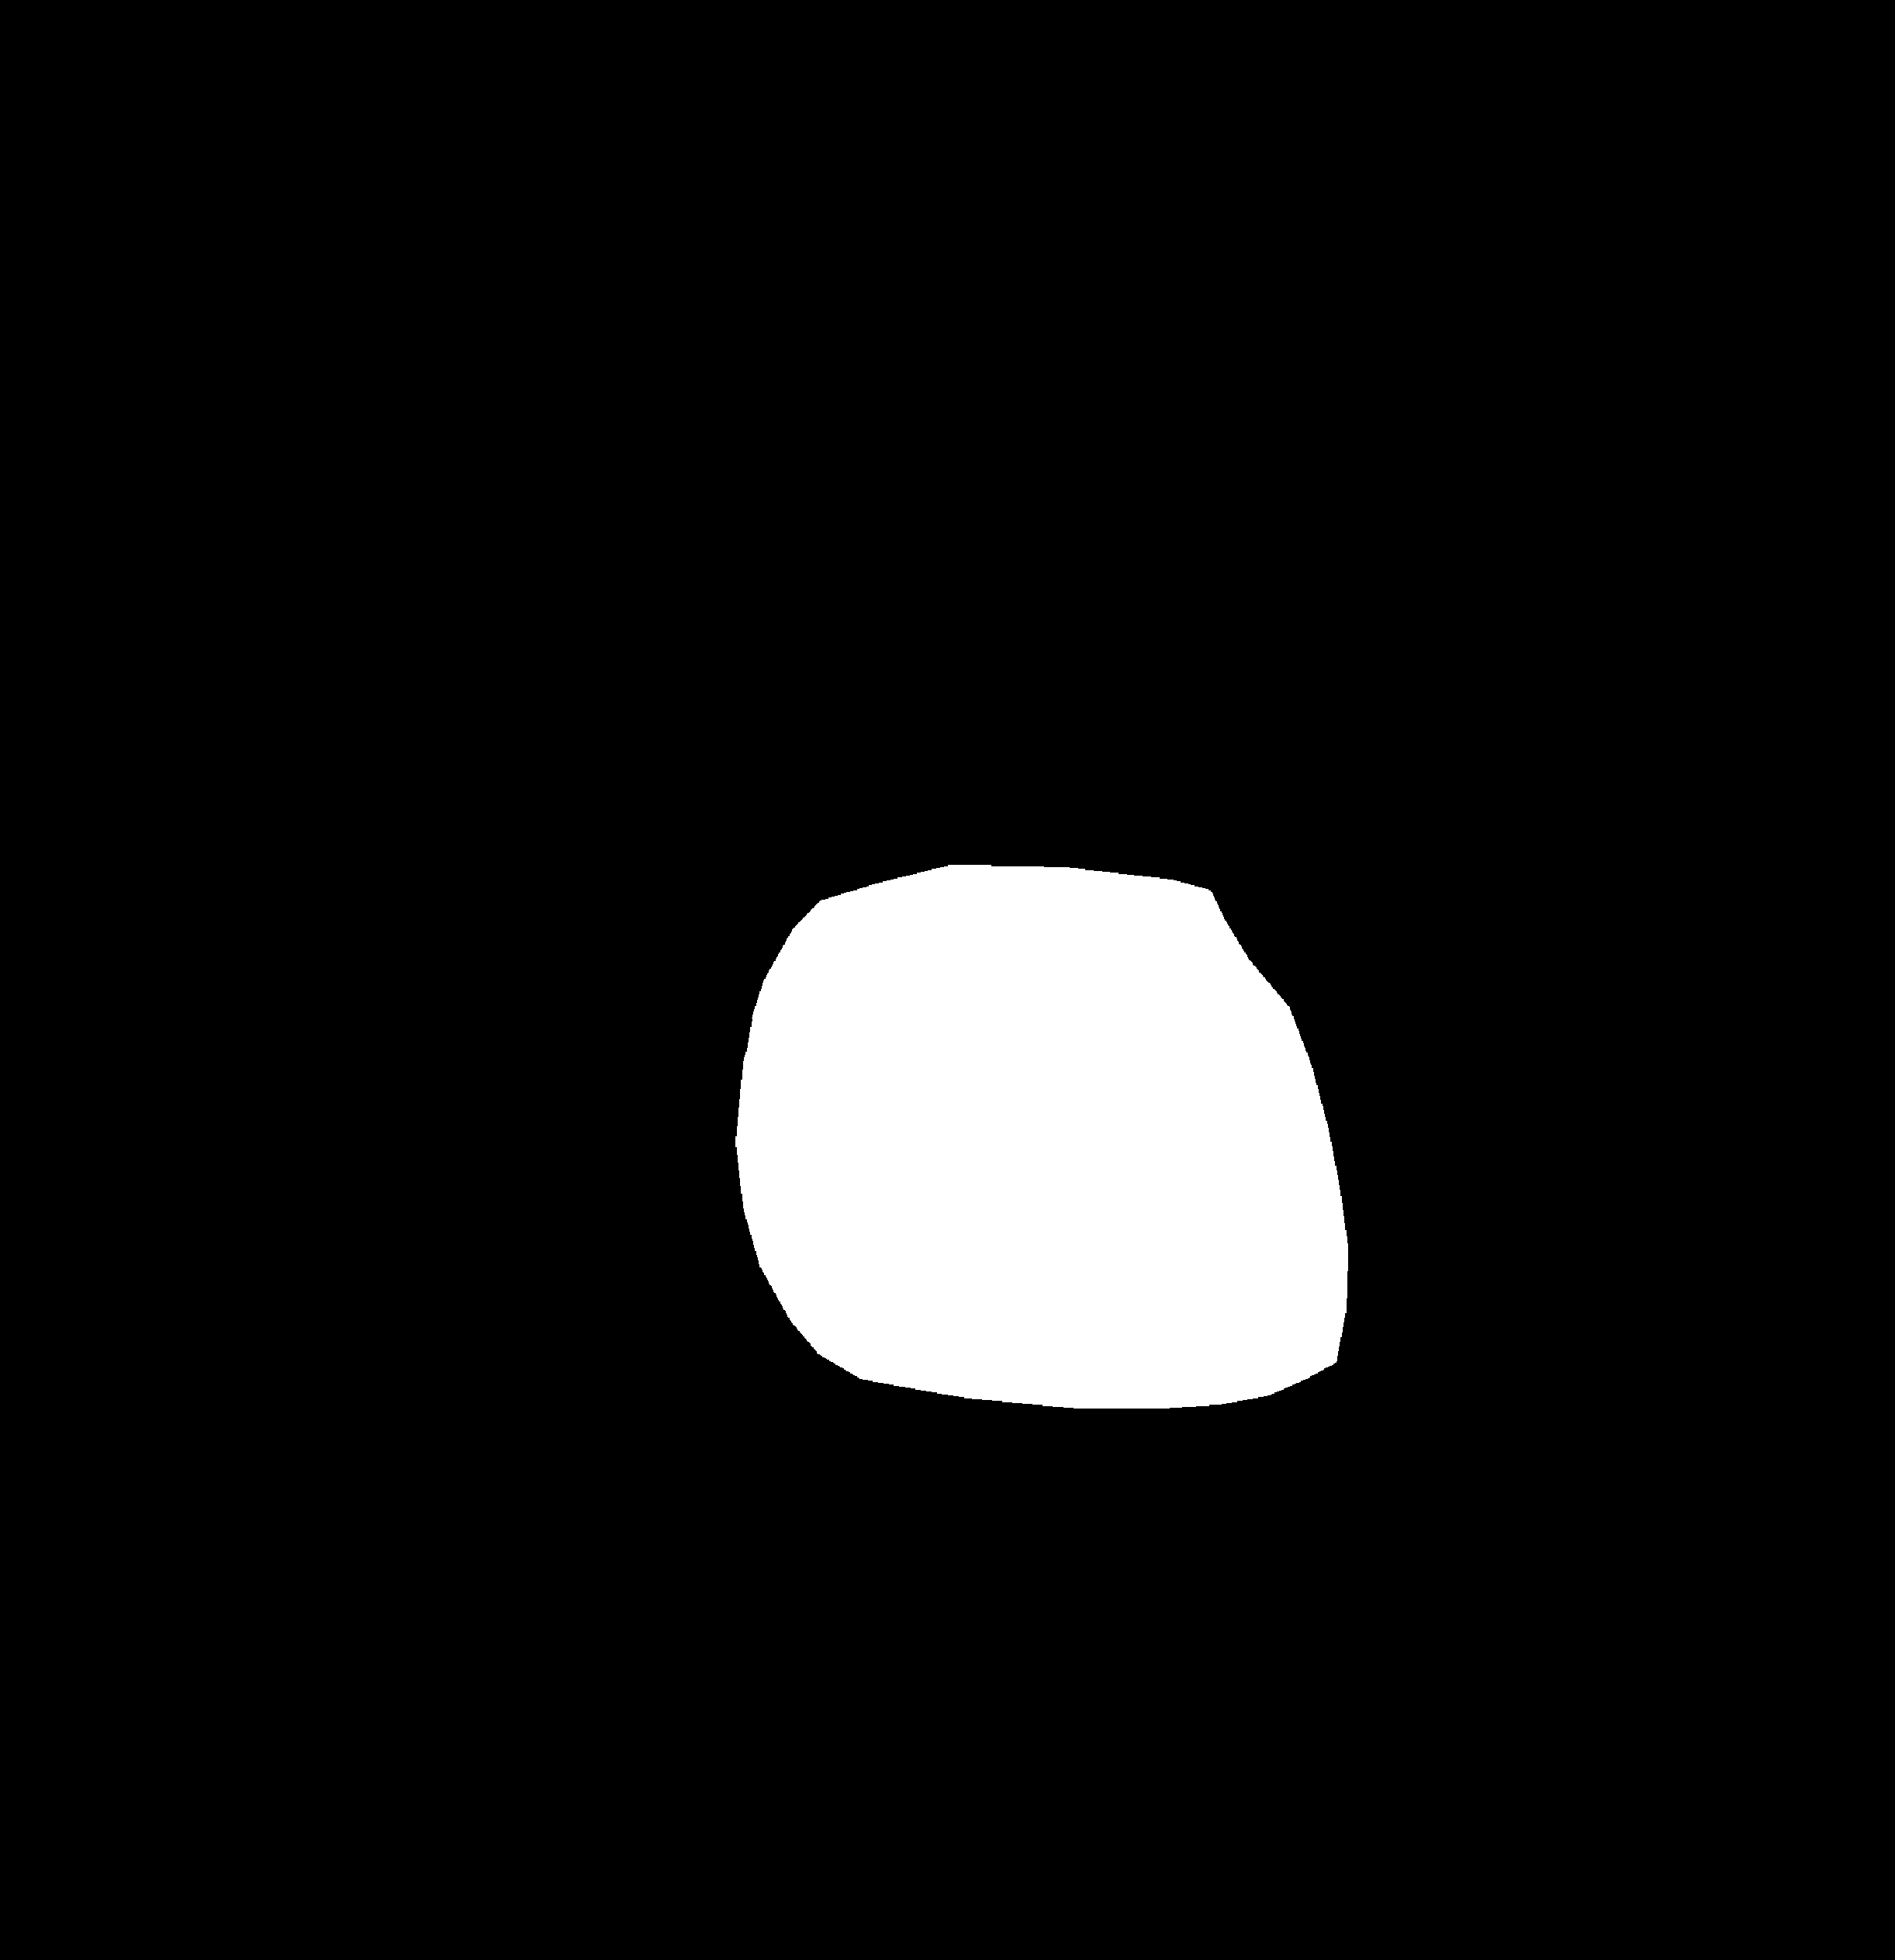heart: (740, 891, 1349, 1465)
left_lung: (297, 122, 871, 1635)
right_lung: (1020, 131, 1610, 1635)
